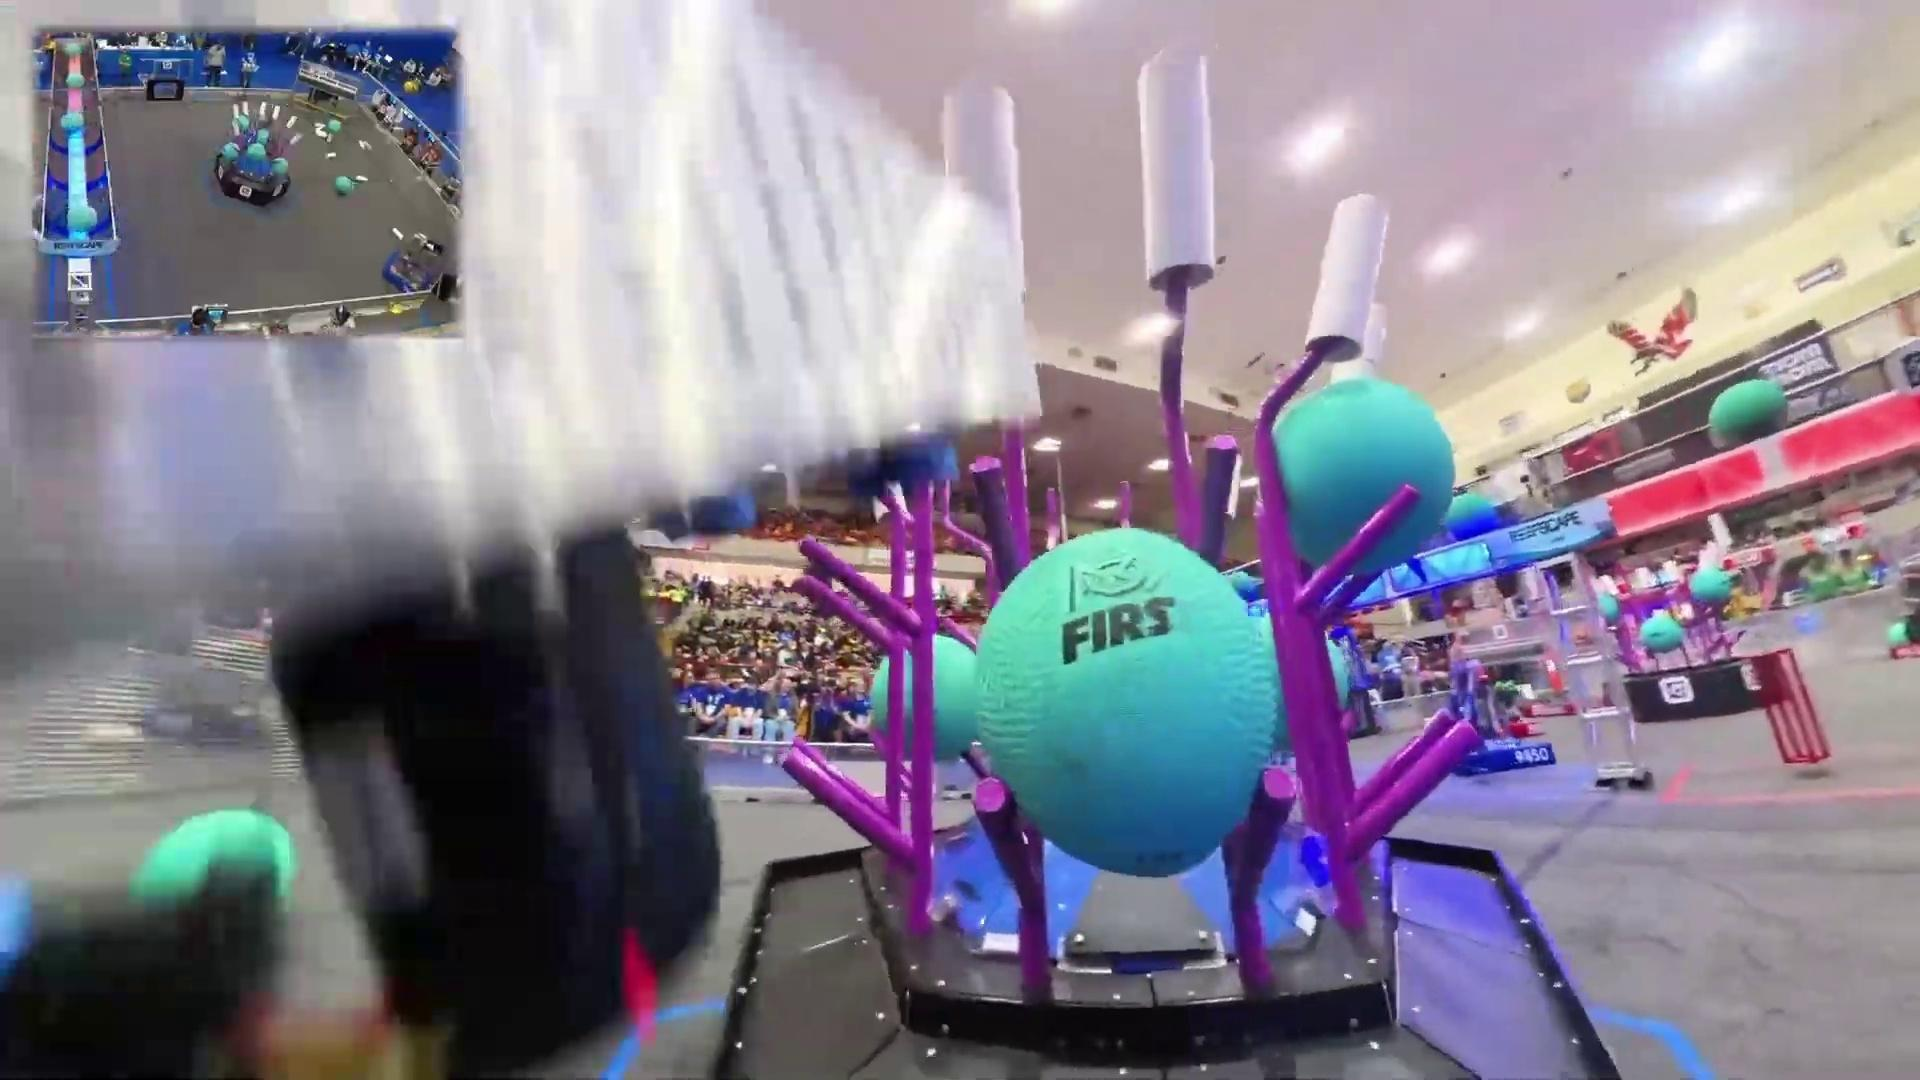robot: (1456, 678, 1559, 775), (380, 228, 444, 294), (1888, 612, 1920, 665)
